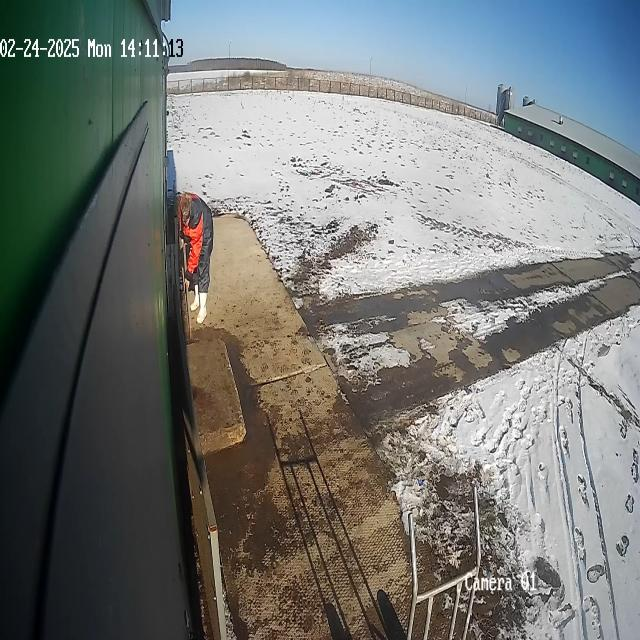Red uniform: (176, 190, 215, 327)
